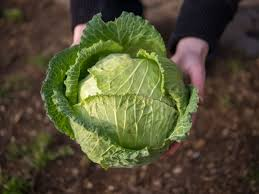cabbage: (62, 52, 186, 160)
